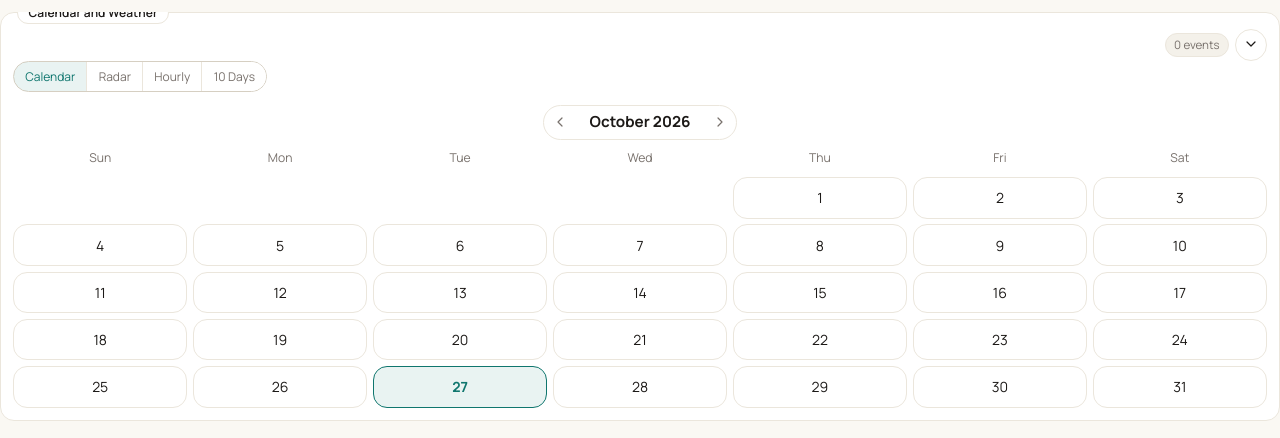
it: CalendarWeekCard collapse › folds the month grid away and keeps the event count in the header
Check: the text "0 events" is shown, box x1=1165 y1=33 x2=1229 y2=57
Check: the element named "Calendar view" is shown, box x1=13 y1=177 x2=1267 y2=408
Step 1. Click the button named "Collapse Calendar and Weather" → (1251, 45), box x1=1235 y1=29 x2=1267 y2=61
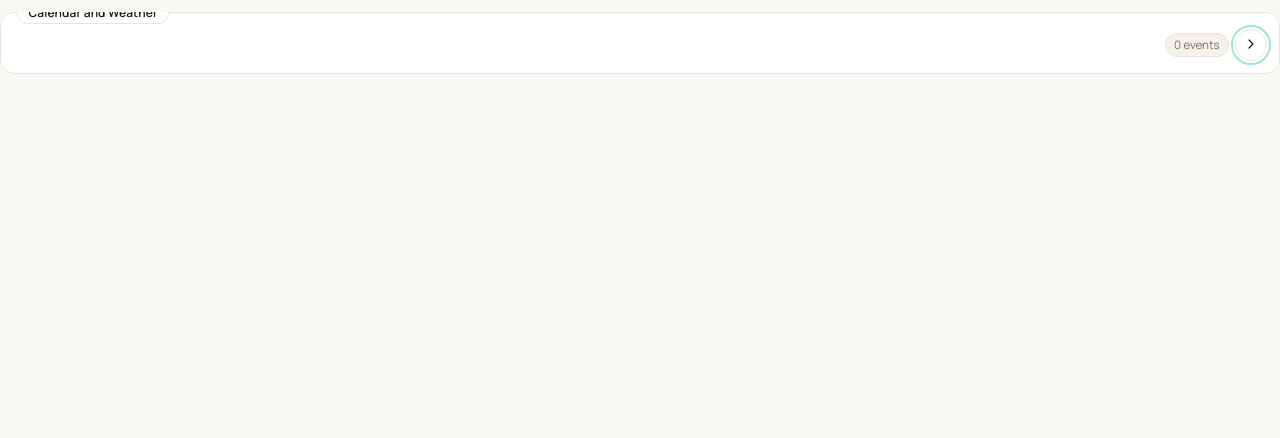
Check: the text "0 events" is shown, box x1=1165 y1=33 x2=1229 y2=57
Check: the button named "Expand Calendar and Weather" is collapsed, box x1=1235 y1=29 x2=1267 y2=61
